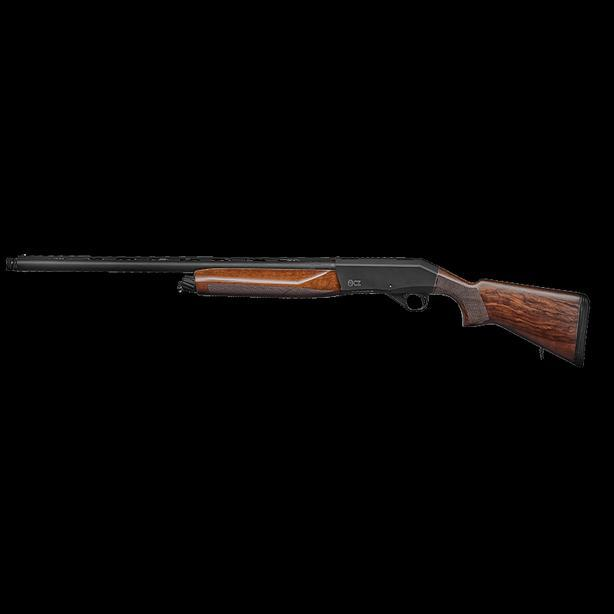Firearm: (7, 235, 603, 381)
